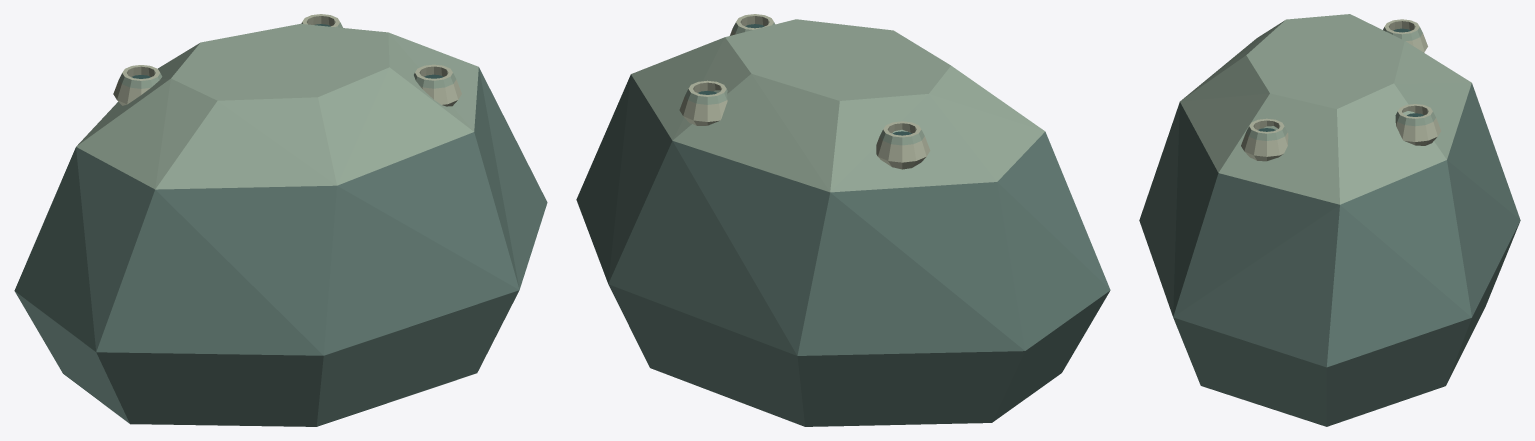
File: barnacle-rock.glb
3 renders of one model, left to right at view 1: azimuth 30°, elevation 25°; view 2: azimuth 150°, elevation 25°; view 3: azimuth 270°, elevation 25°, orthographic. The views are drawn at different scales.
Parts seen in each view (by area): view 1: barnacle-rock__body; view 2: barnacle-rock__body; view 3: barnacle-rock__body.
Part boxes in pixels (<box>): barnacle-rock__body: <box>14,14,547,426</box>; barnacle-rock__body: <box>576,14,1110,426</box>; barnacle-rock__body: <box>1139,14,1520,426</box>.
Size of the model in its own units: 1.42 by 0.8 by 1.03.
